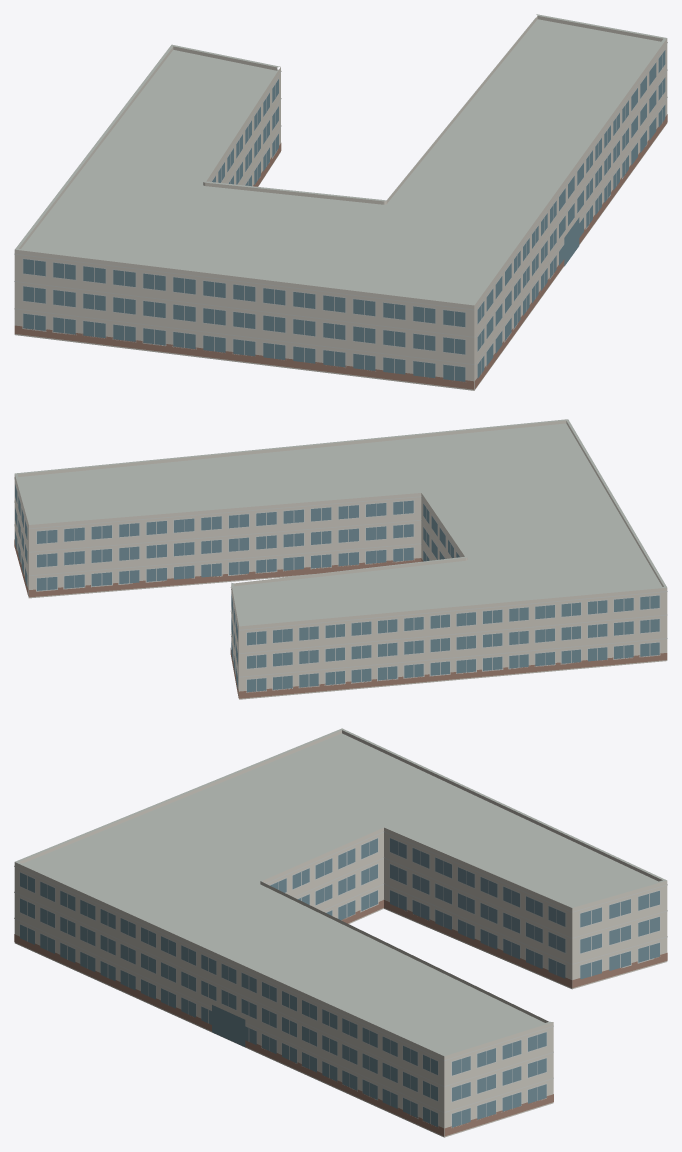
Rendered from public-a3db53a4-2c0d-4ad2-b400-ee15e01eb0e3.glb.
3 renders of one model, top to bottom at view 1: azimuth 30°, elevation 25°; view 2: azimuth 150°, elevation 25°; view 3: azimuth 270°, elevation 25°, orthographic. The views are drawn at different scales.
Visible parts, largest first — view 1: public-a3db53a4-2c0d-4ad2-b400-ee15e01eb0e3; view 2: public-a3db53a4-2c0d-4ad2-b400-ee15e01eb0e3; view 3: public-a3db53a4-2c0d-4ad2-b400-ee15e01eb0e3.
Boxes of the visible parts, x1,y1,x2,y2 form: public-a3db53a4-2c0d-4ad2-b400-ee15e01eb0e3: [14, 14, 667, 390]; public-a3db53a4-2c0d-4ad2-b400-ee15e01eb0e3: [14, 419, 667, 699]; public-a3db53a4-2c0d-4ad2-b400-ee15e01eb0e3: [14, 728, 667, 1137].
Size of the model in its own units: 79.26 by 9.15 by 66.69.
